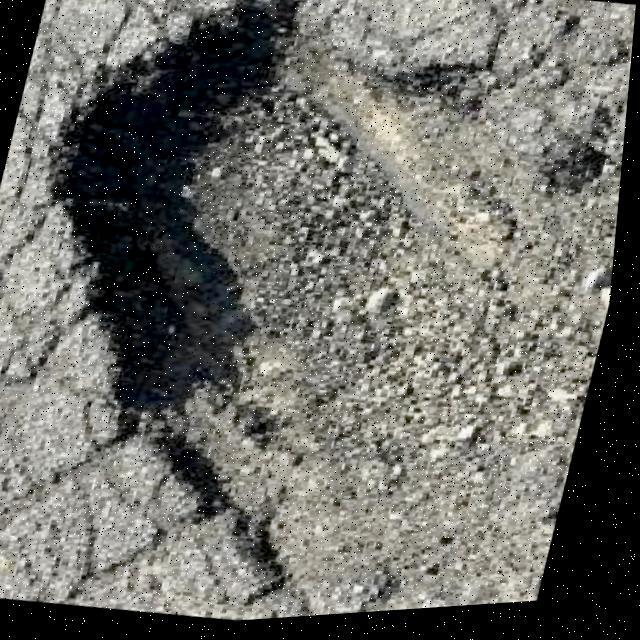pothole: (55, 3, 563, 610)
